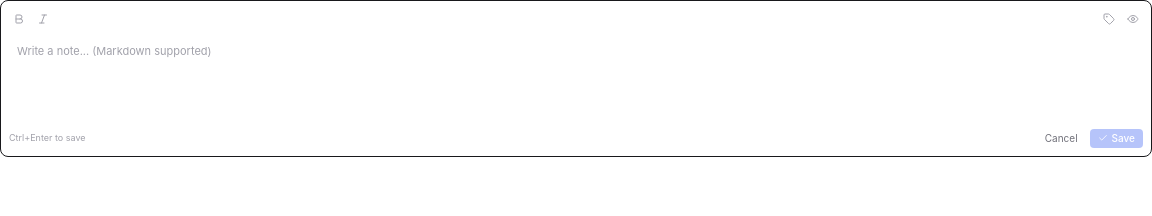
Test case: NoteEditor › tag autocomplete › shows autocomplete suggestions matching partial input
The image size is (1152, 216).
Click the button titled "Add tags" at {"x": 1109, "y": 19}, box [1099, 9, 1119, 29]
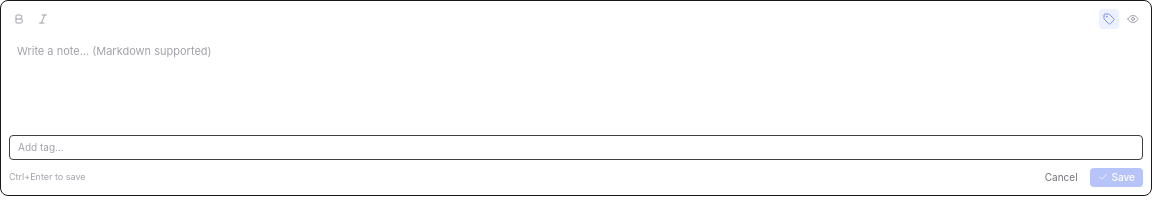
Type "back" into the field with placeholder "Add tag..." at {"x": 576, "y": 147}, box [9, 134, 1143, 160]
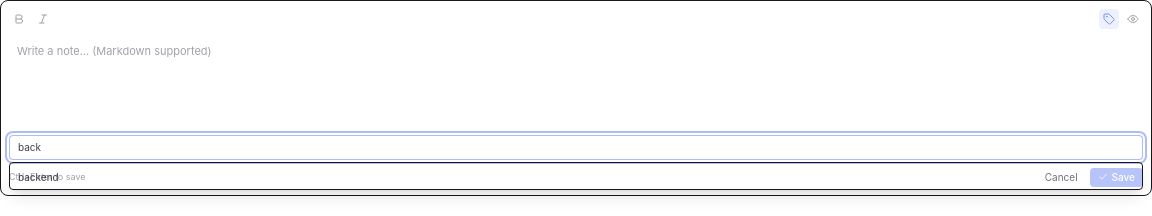
Result: the button "backend" is shown at [10, 166, 1142, 188]
